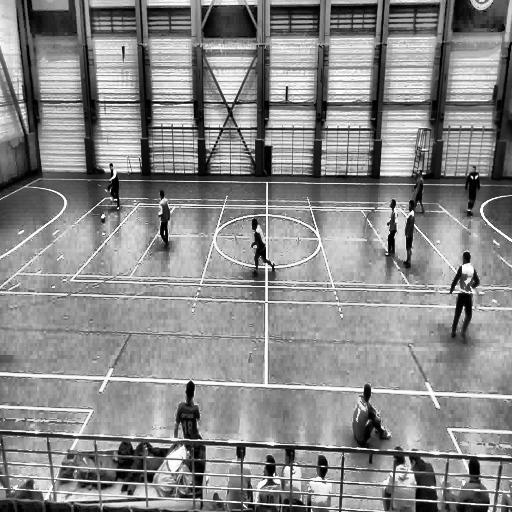ball: (101, 212, 106, 221)
player: (353, 384, 390, 463), (448, 251, 479, 342), (175, 380, 202, 449), (250, 216, 275, 276), (404, 200, 416, 268), (158, 189, 171, 250), (464, 168, 480, 216), (386, 198, 398, 257), (412, 167, 426, 217), (108, 162, 122, 210)
